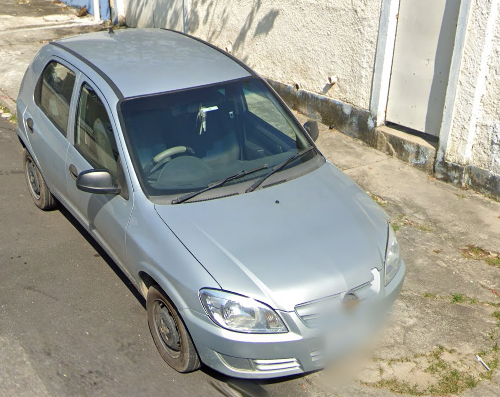car: (15, 27, 407, 380)
